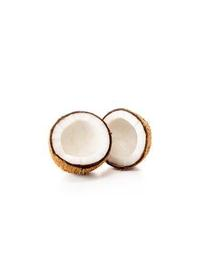coconut: (48, 110, 111, 177), (99, 108, 152, 169)
